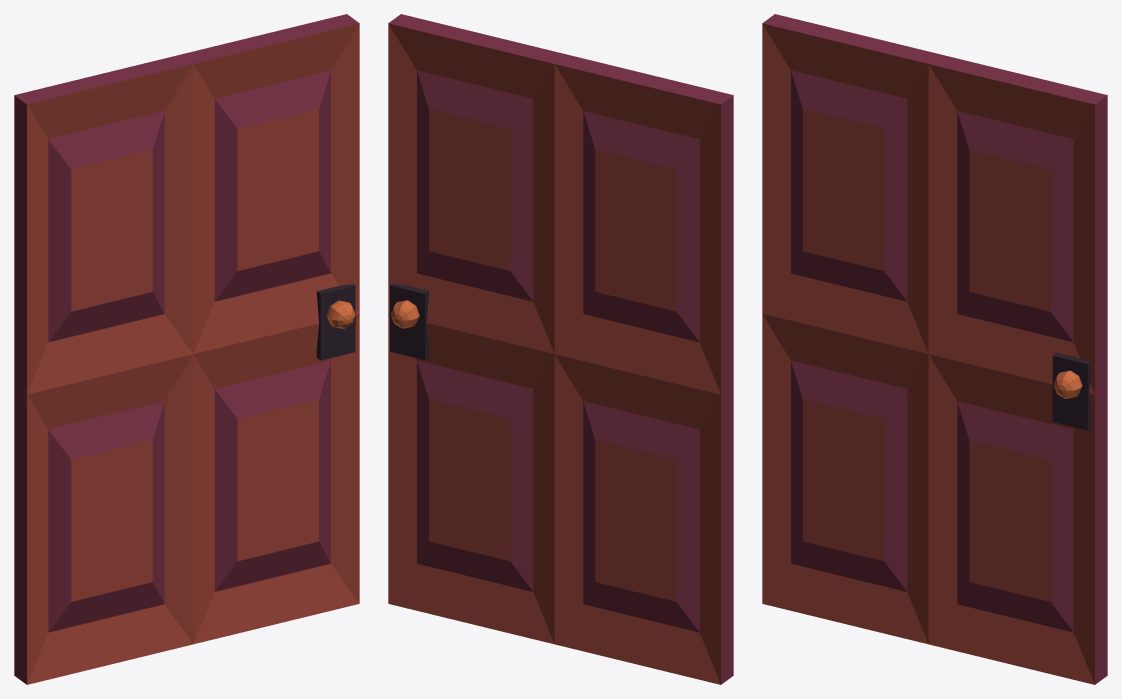
Rendered from G477Proj2Door.fbx.
The picture shows the model from 3 angles, left to right: view 1: azimuth 30°, elevation 25°; view 2: azimuth 150°, elevation 25°; view 3: azimuth 330°, elevation 25°; orthographic projection.
Parts seen in each view (by area): view 1: Cube.006; view 2: Cube.006; view 3: Cube.006.
Boxes of the visible parts, bbox=[...] form: Cube.006: bbox=[14, 14, 359, 684]; Cube.006: bbox=[388, 14, 733, 684]; Cube.006: bbox=[762, 14, 1107, 684].
Size of the model in its own units: 120 by 200 by 22.19.
